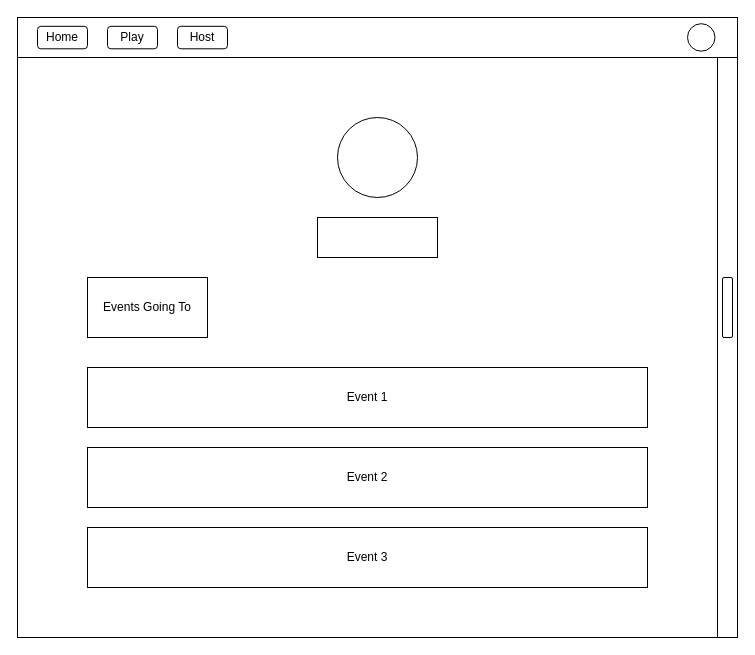
This 755x655 diagram has some shape labels left out. Here are the shapes that lost their labels. From the top down, the centre of each, then its label:
At (700,37): "login".
At (377,157): "Image".
At (377,237): "Username".
